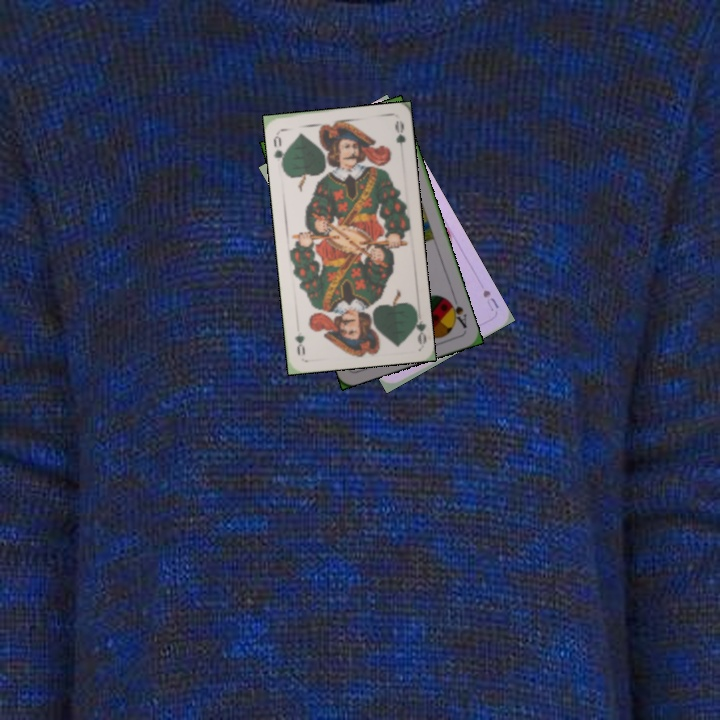GO: (408, 305, 429, 345), (269, 129, 289, 169)
SA: (443, 295, 469, 331)
SU: (477, 284, 502, 314)
